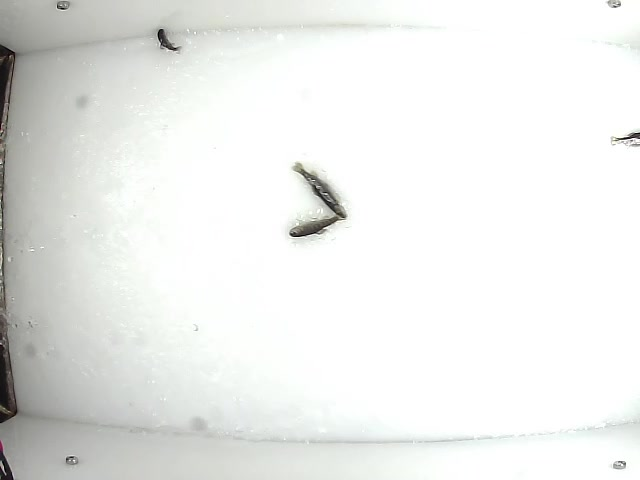fish: (287, 160, 349, 222), (286, 207, 346, 239), (153, 26, 186, 55)
